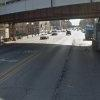Bridge: (4, 0, 100, 30)
